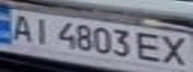0: (90, 25, 115, 56)
3: (112, 27, 136, 60)
4: (51, 19, 78, 49)
8: (72, 21, 93, 53)
A: (6, 11, 36, 43)
E: (133, 29, 166, 64)
I: (27, 15, 57, 45)
X: (160, 33, 193, 69)
